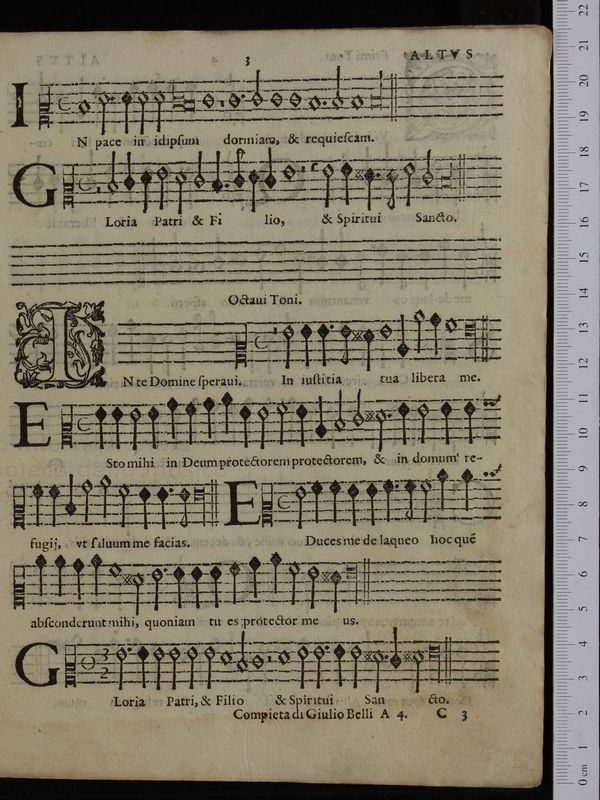Imin: (52, 83, 77, 122)
barline: (384, 68, 402, 128)
c clef_9: (32, 84, 56, 135)
l1semibreve_7: (169, 73, 182, 113)
l2semibreve_8: (181, 94, 200, 116)
longa_8: (366, 67, 387, 116)
minim_6: (95, 83, 110, 138), (151, 84, 167, 135), (134, 84, 149, 137)
minim_7: (249, 62, 264, 112)
minim_8: (329, 61, 344, 114)
point: (315, 94, 331, 113), (104, 87, 119, 107), (234, 86, 248, 104)
semibreve rest: (216, 77, 226, 124)
semibreve_7: (198, 84, 216, 115), (285, 83, 303, 114), (265, 86, 284, 111), (226, 86, 242, 114)
semibreve_8: (302, 89, 322, 115), (346, 90, 366, 116), (75, 94, 89, 117)
semiminim_6: (115, 86, 134, 138)
